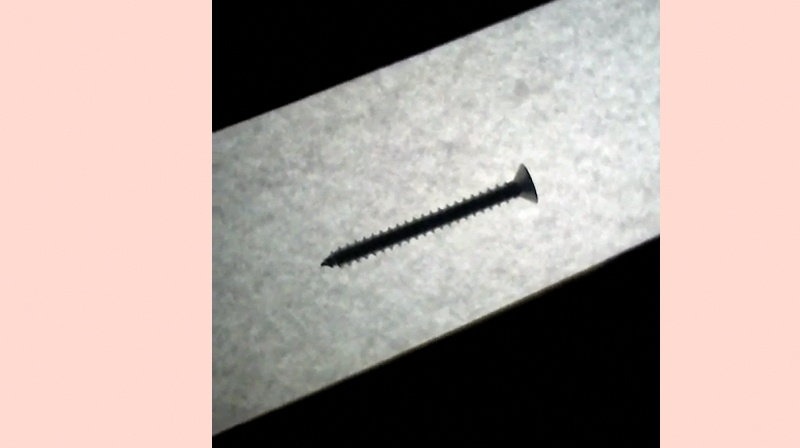S002: (316, 159, 539, 270)
